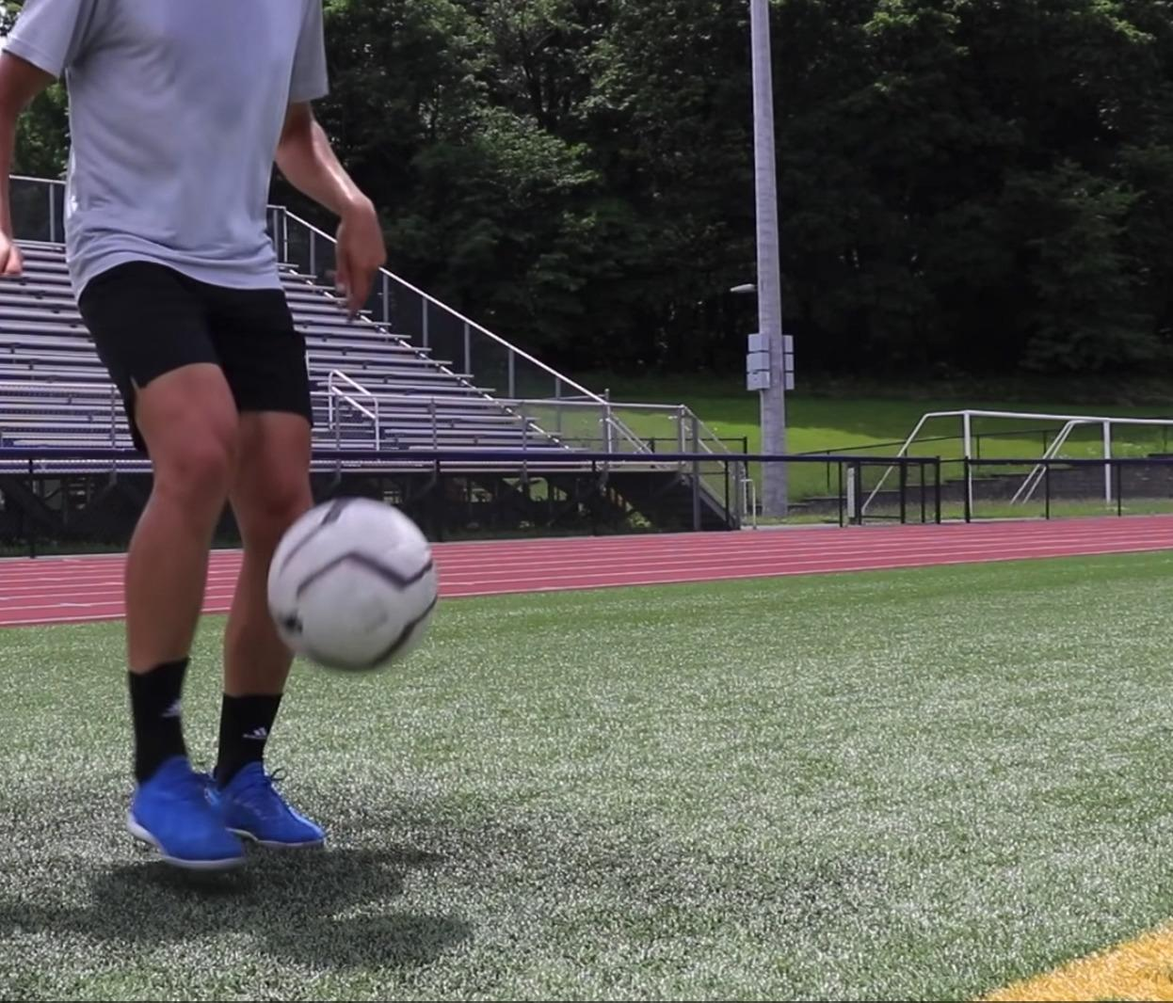ball: (264, 497, 443, 678)
foot: (119, 760, 247, 879), (215, 750, 325, 854)
person: (0, 0, 388, 871)
